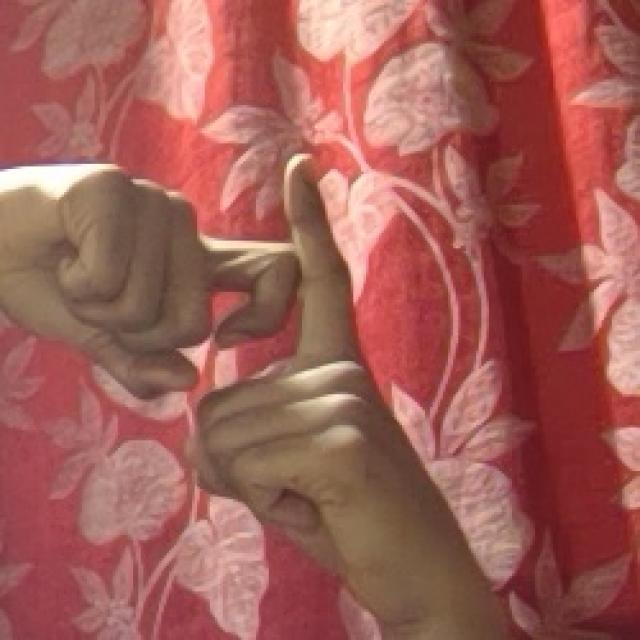Alphabet-K: (6, 133, 464, 626)
